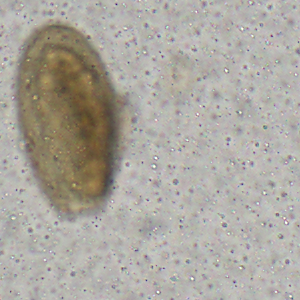Fasciola_hepatica_egg: (15, 24, 119, 218)
